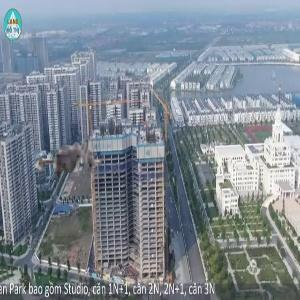drone: (25, 123, 110, 208)
